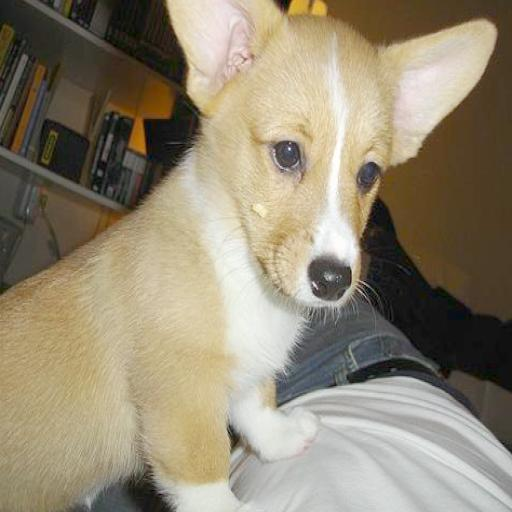dog_face: (168, 0, 497, 302)
